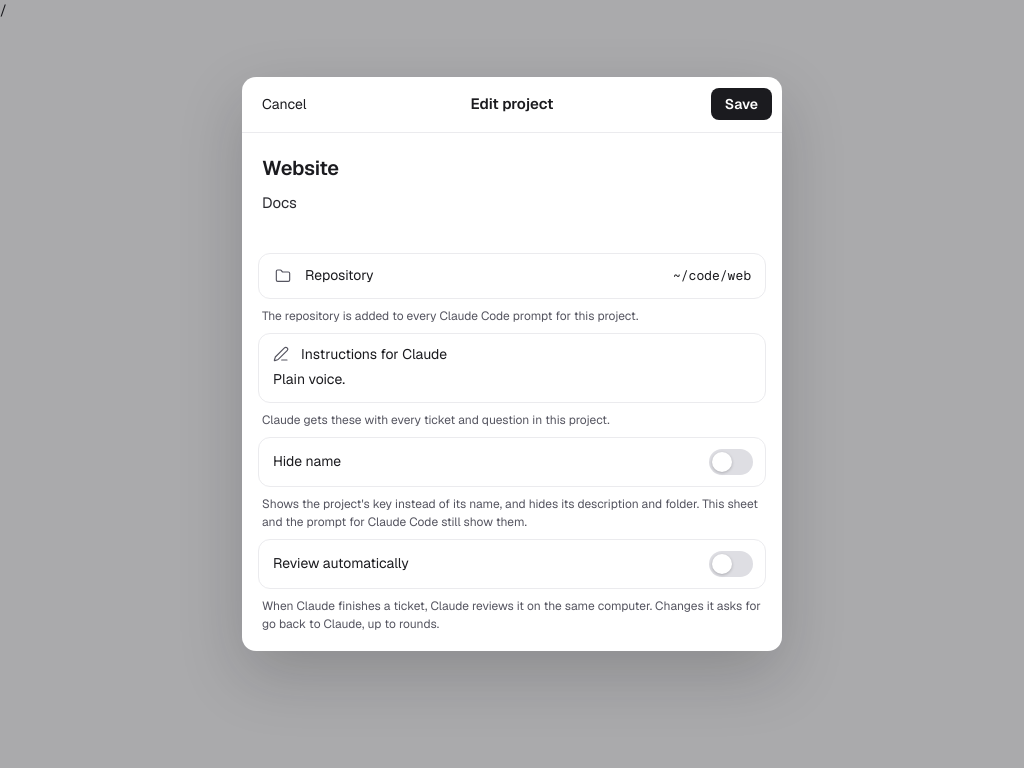
Test: Edit project sheet › saves the changes and confirms with a toast
Clear the field named "Project name" at point(512, 168), box [262,151,762,185]
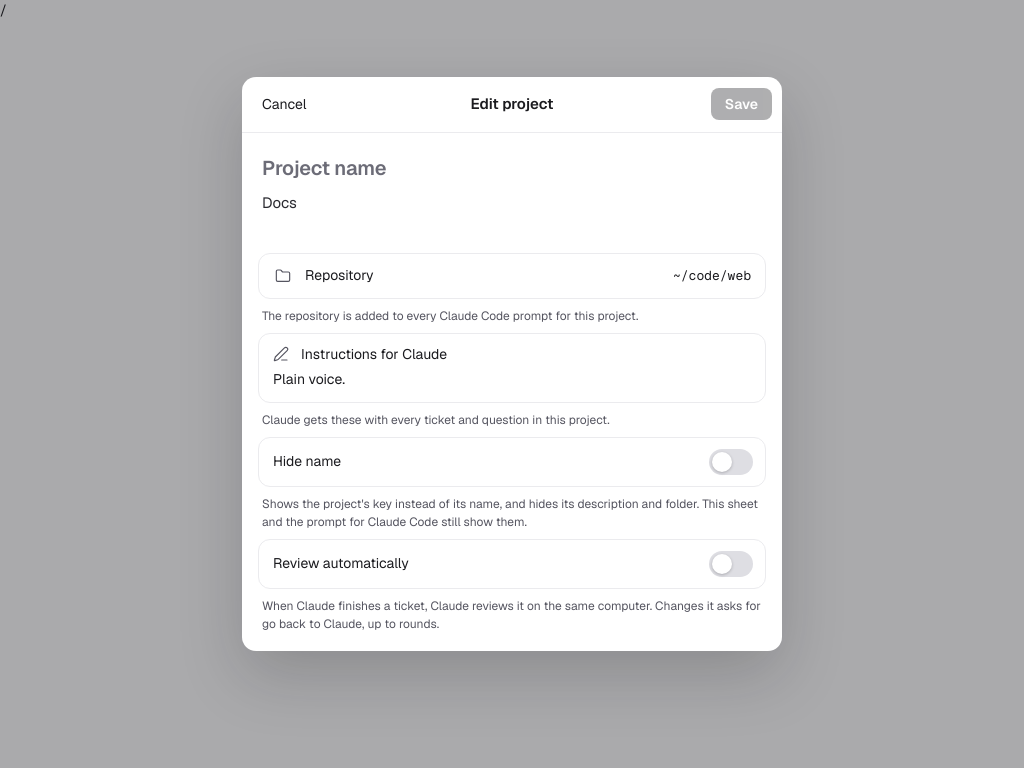
Check: the button "Save" is disabled, box [711,88,772,120]
Type "Marketing site" into the field labelled "Project name" at point(512, 168), box [262,151,762,185]
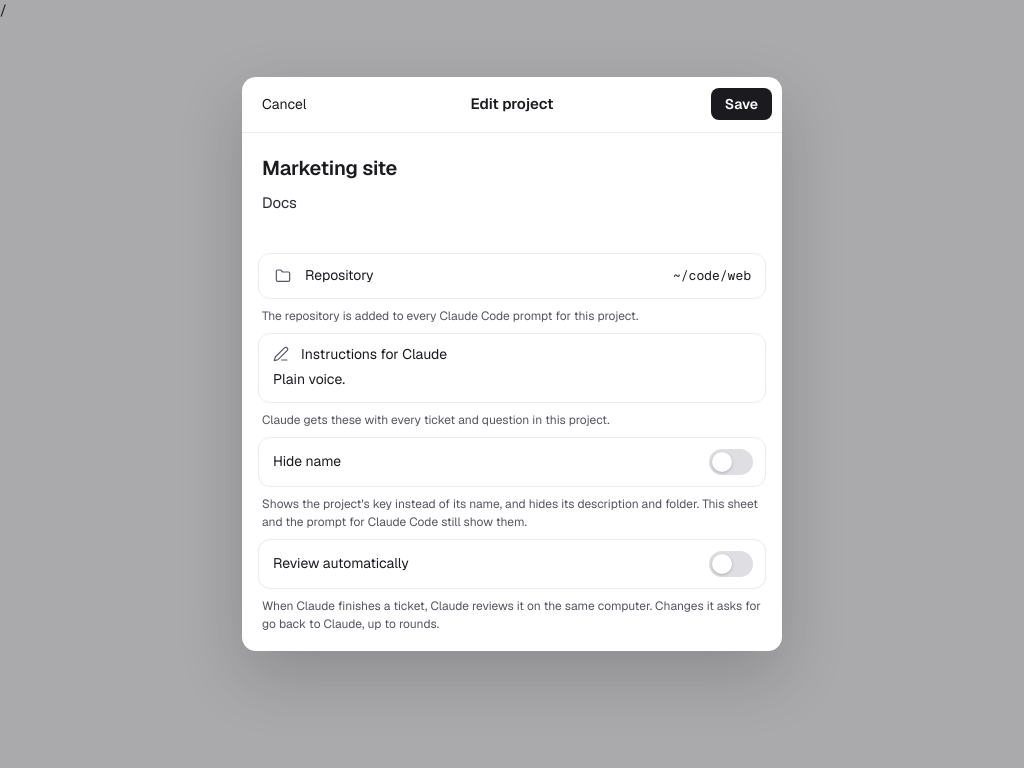
Click the button "Save" at point(741, 104), box [711,88,772,120]
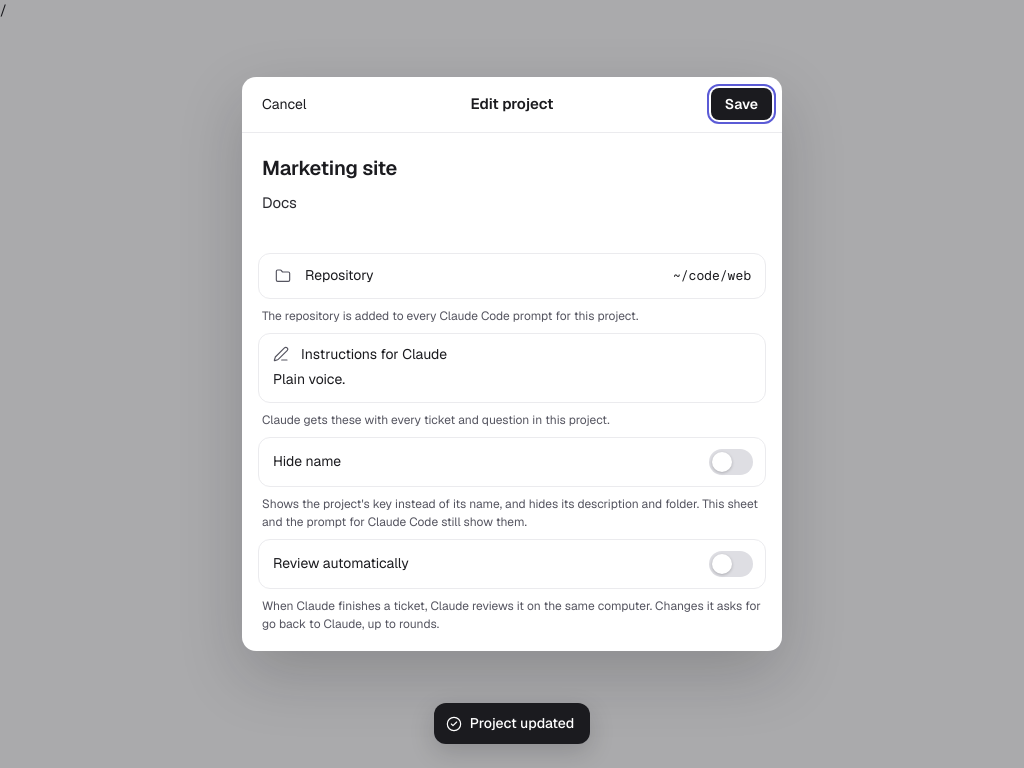
Check: the text "Project updated" is shown, box [470,713,574,734]
